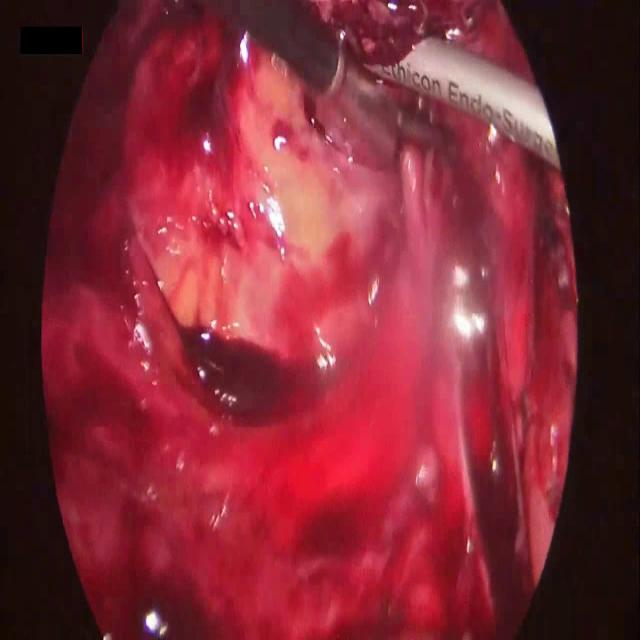surgical-area: (31, 0, 578, 639)
surgical-tool: (364, 26, 561, 172), (228, 0, 403, 163)
